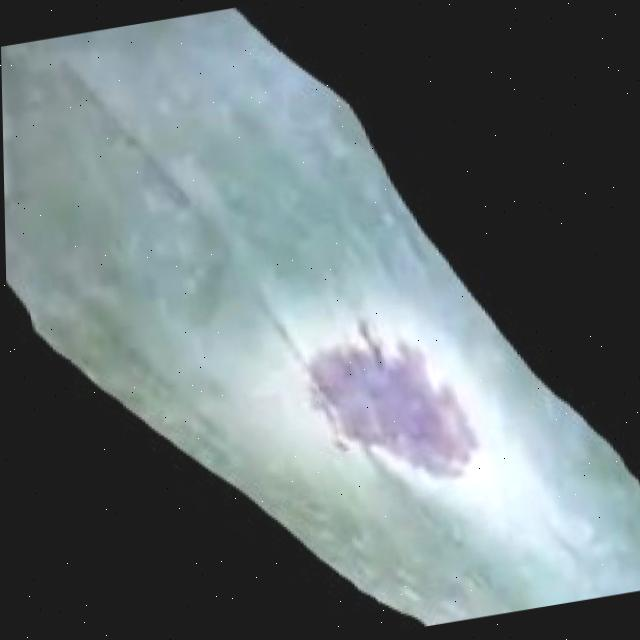mite: (4, 171, 439, 640)
sunburn: (290, 304, 493, 507)
